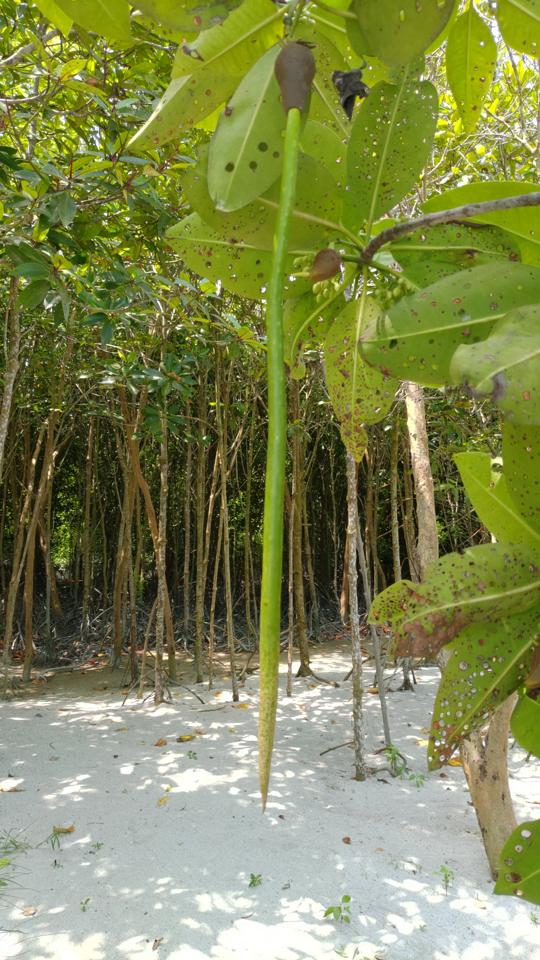mentah: (242, 26, 335, 819)
